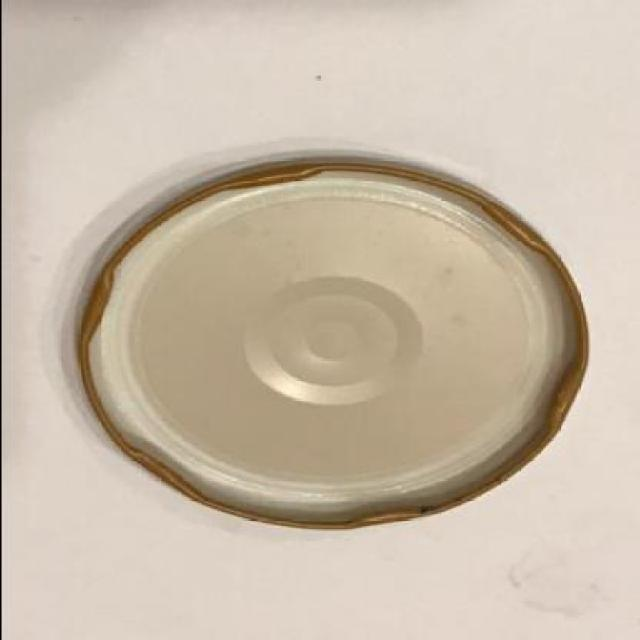METAL: (80, 162, 592, 535)
